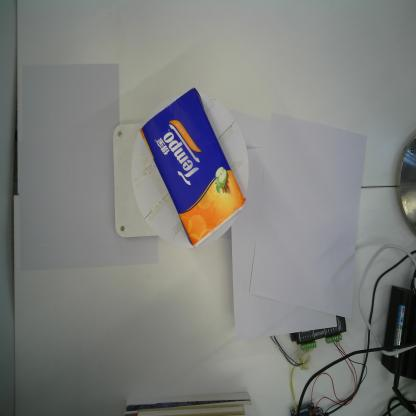Tissue: (140, 86, 246, 249)
